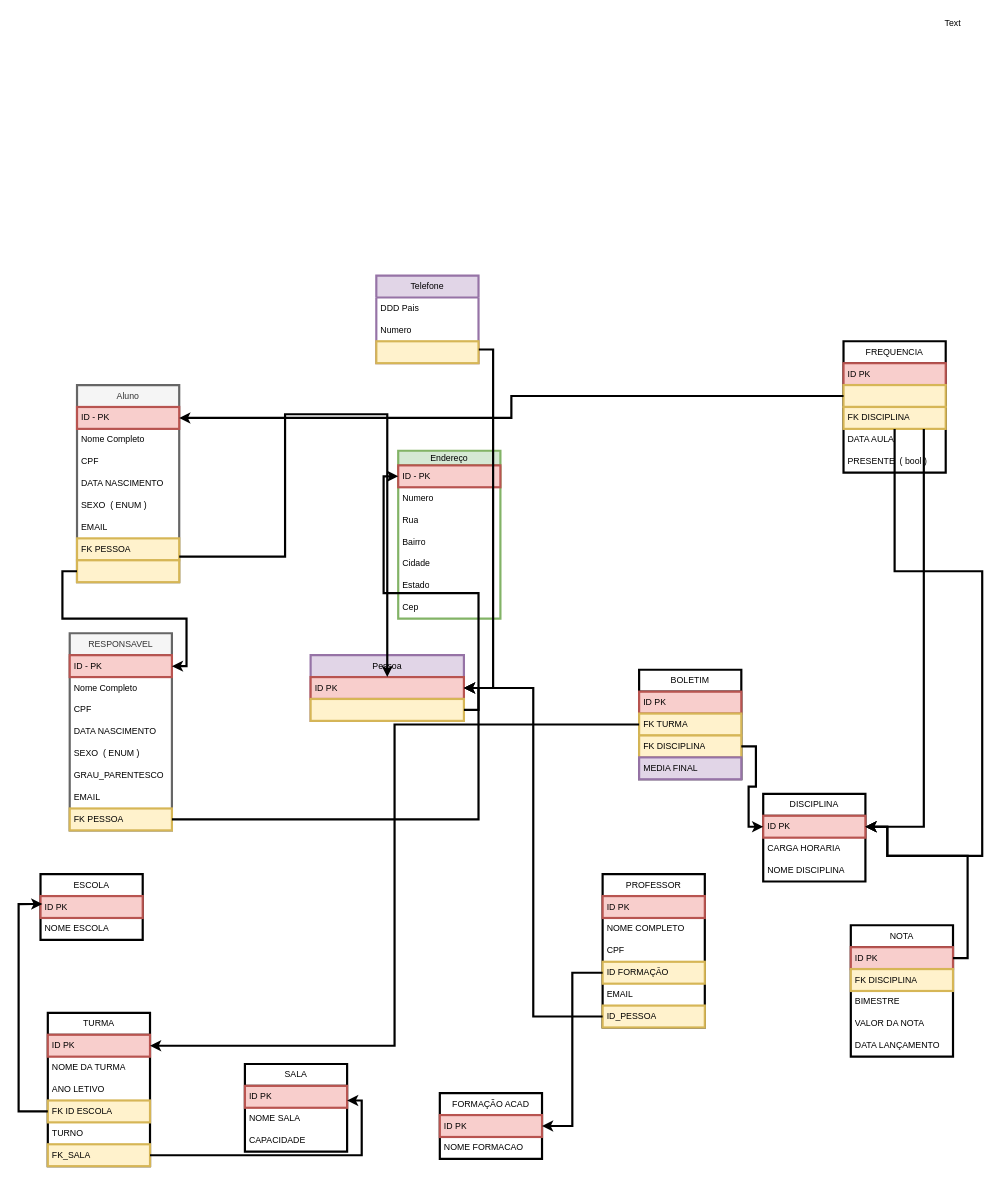
Image size: 1002x1180. Some labels were removed from this diagram. The shapes that lost their labels are listed below. From the top down, each one's centre as x and y in pixels, then its label:
At point (427, 352): "idPessoa".
At point (894, 396): "FK ALUNO".
At point (128, 571): "FK RESPONSAVEL".
At point (387, 710): "IdEndereço".
